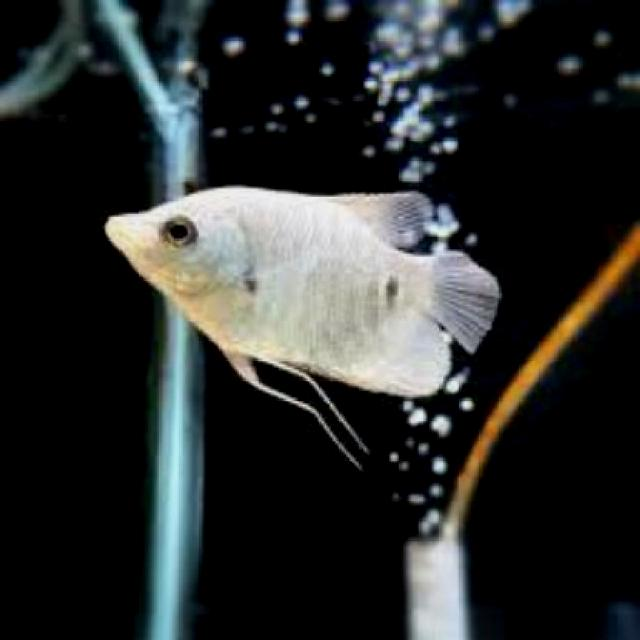gurame: (107, 184, 484, 430)
